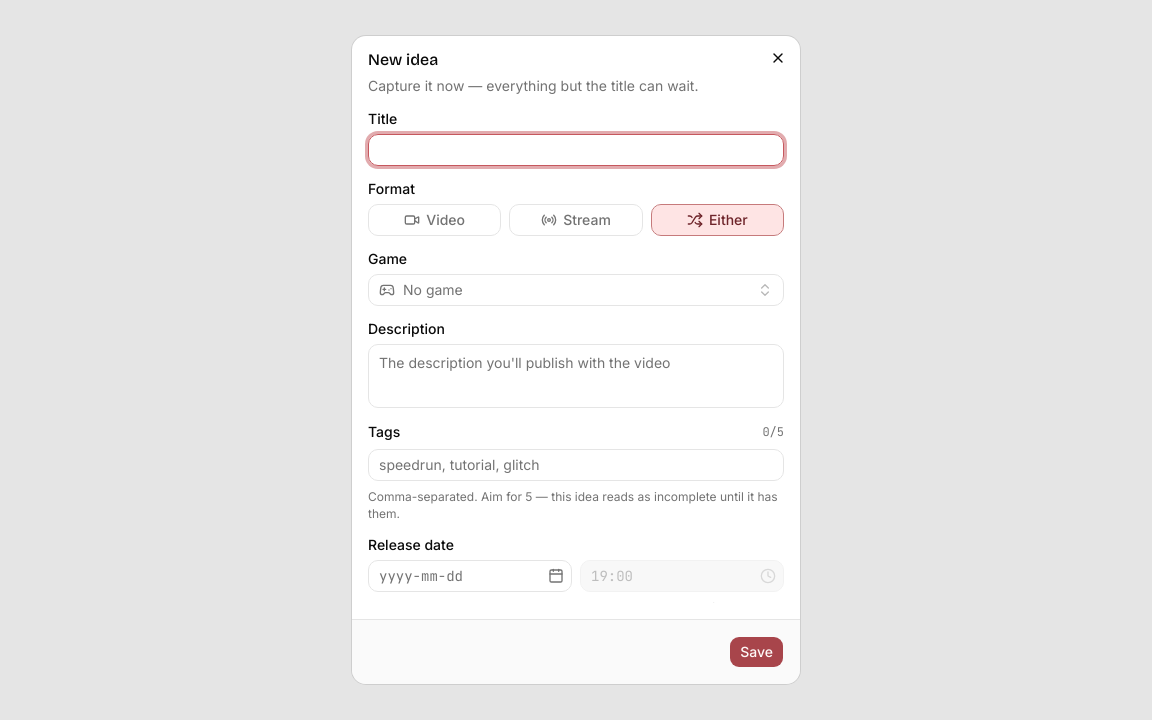
Test: IdeaEditor — create mode › tracks the tag count against the five-tag standard
Expected: the text "0/5" is shown, [762, 424, 784, 441]
Type "a, b, c" into the field labelled "Tags" at (576, 465), box [368, 449, 784, 481]
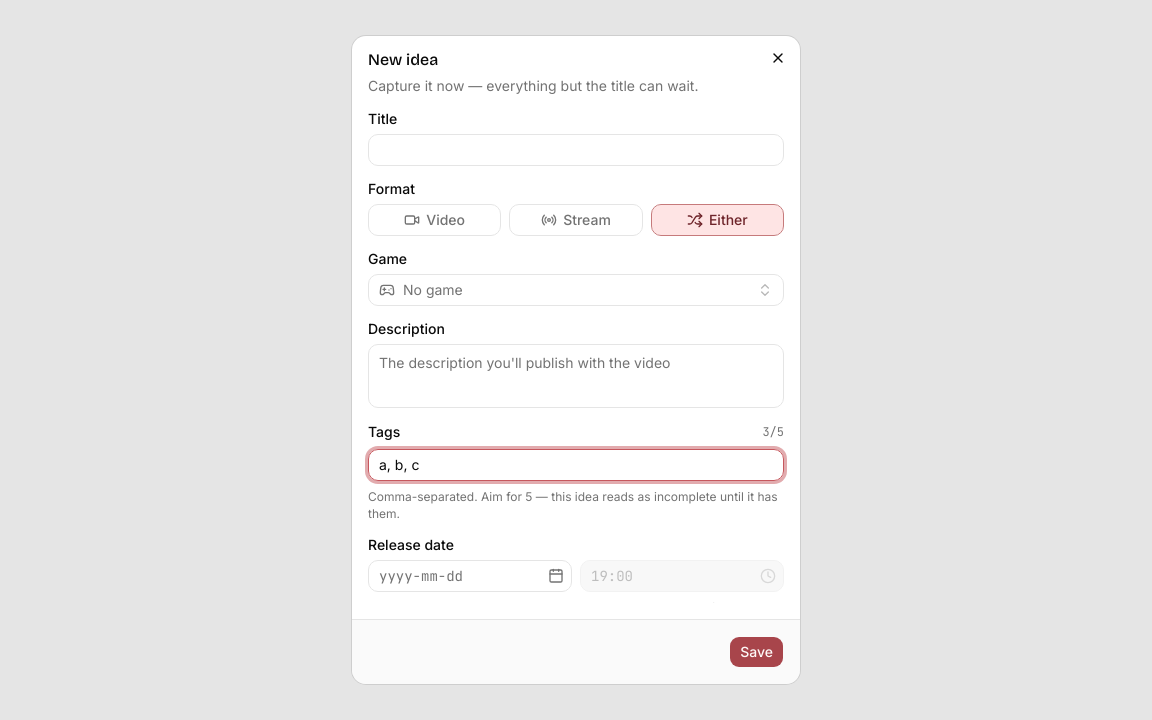
Result: the text "3/5" is shown at [762, 424, 784, 441]
Type ", d, e, f" into the field labelled "Tags" at (576, 465), box [368, 449, 784, 481]
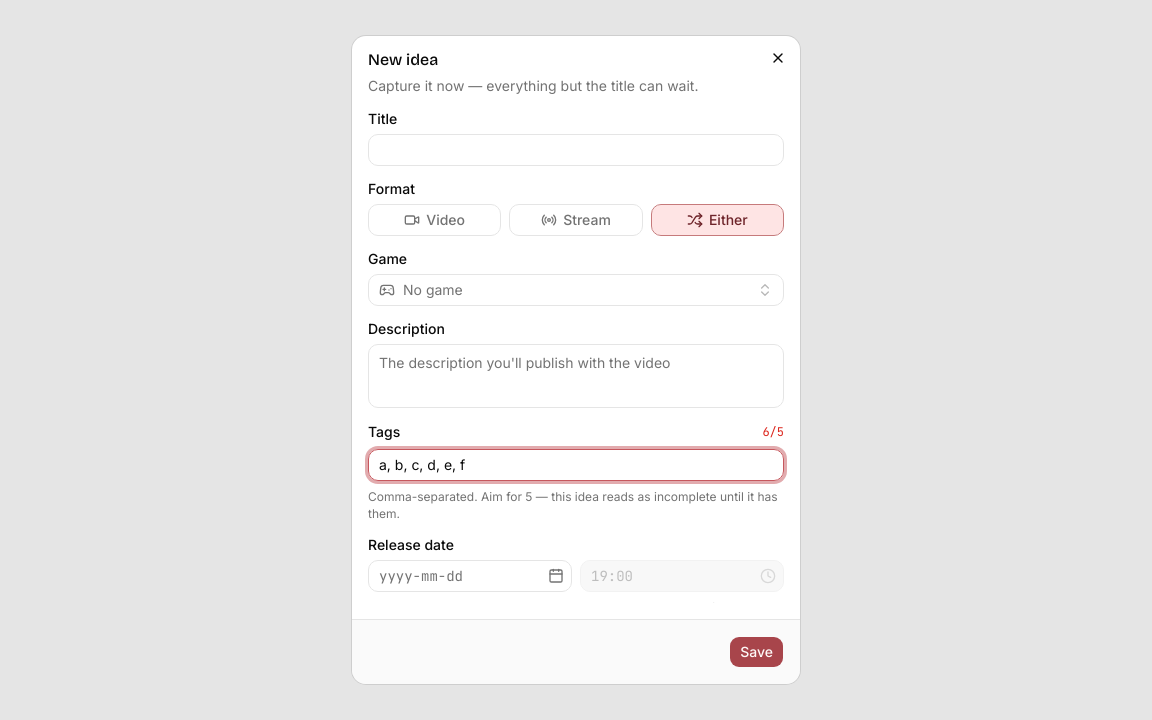
Result: the text "6/5" is shown at [762, 424, 784, 441]
